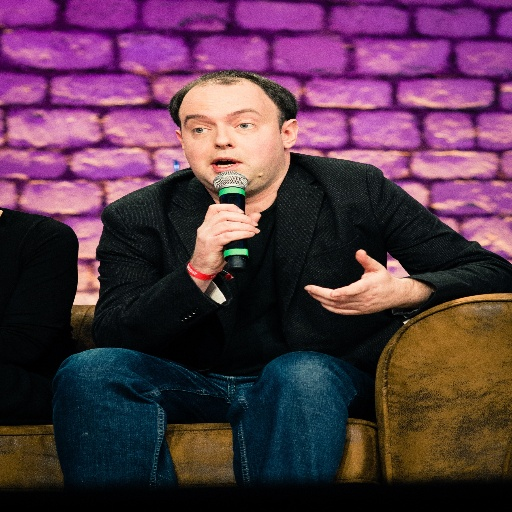hand: (315, 256, 436, 315), (193, 201, 263, 274)
